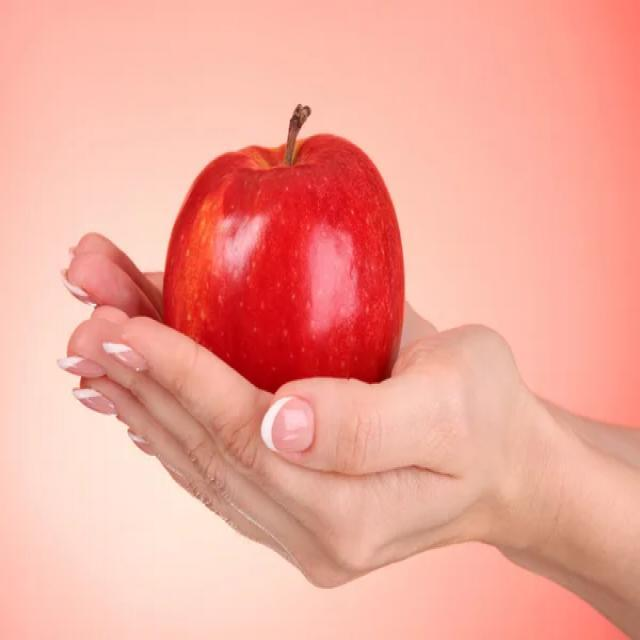Fresh Apple: (152, 138, 408, 392)
